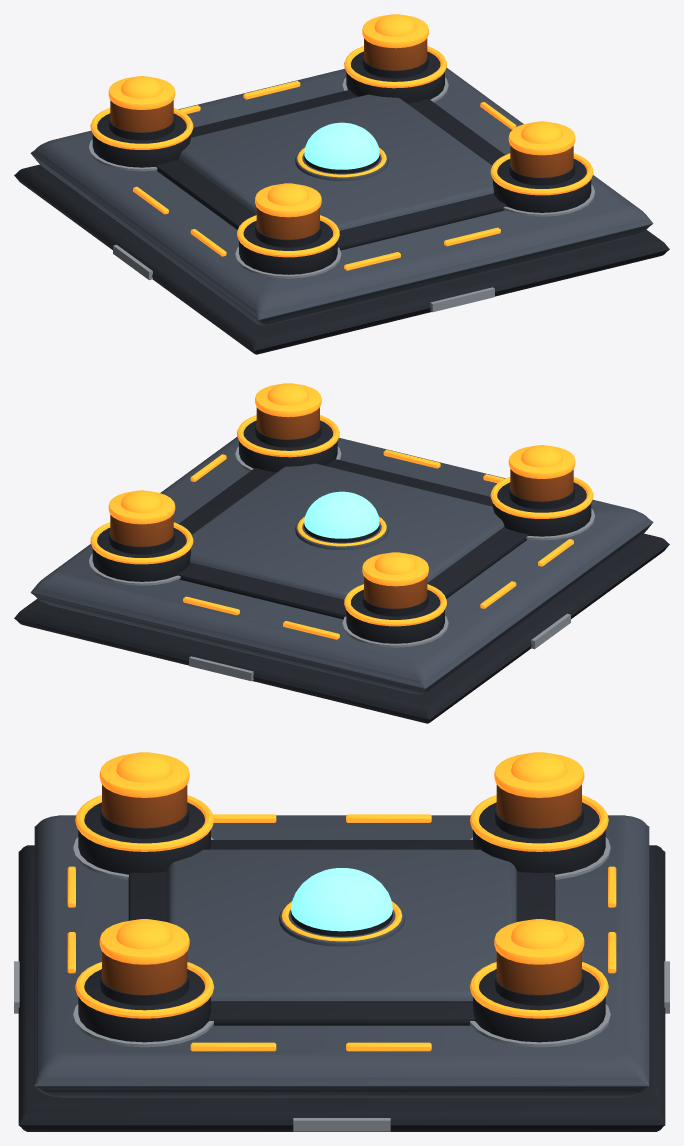
Rendered from Betty7.fbx.
3 views of the same model, one above another, from view 1: azimuth 30°, elevation 25°; view 2: azimuth 150°, elevation 25°; view 3: azimuth 270°, elevation 25° (orthographic). The views are drawn at different scales.
Parts seen in each view (by area): view 1: Betty7_Base, Mine_03, Mine_01, Mine_04, Mine_02, Detector_Dome; view 2: Betty7_Base, Mine_02, Mine_04, Mine_01, Mine_03, Detector_Dome; view 3: Betty7_Base, Mine_01, Mine_04, Mine_02, Mine_03, Detector_Dome.
Boxes of the visible parts, x1,y1,x2,y2 form: Betty7_Base: [14, 46, 669, 354]; Mine_03: [255, 183, 321, 247]; Mine_01: [362, 14, 428, 78]; Mine_04: [508, 121, 575, 185]; Mine_02: [108, 76, 175, 140]; Detector_Dome: [304, 122, 379, 169]; Betty7_Base: [14, 415, 669, 723]; Mine_02: [362, 552, 428, 616]; Mine_04: [255, 383, 321, 447]; Mine_01: [108, 490, 175, 554]; Mine_03: [508, 445, 575, 509]; Detector_Dome: [304, 491, 379, 538]; Betty7_Base: [14, 795, 669, 1131]; Mine_01: [494, 919, 584, 1005]; Mine_04: [99, 919, 189, 1005]; Mine_02: [494, 752, 584, 838]; Mine_03: [99, 752, 189, 838]; Detector_Dome: [291, 868, 392, 931].
Bounding box in the file's own units: 203 × 54.74 × 203.
